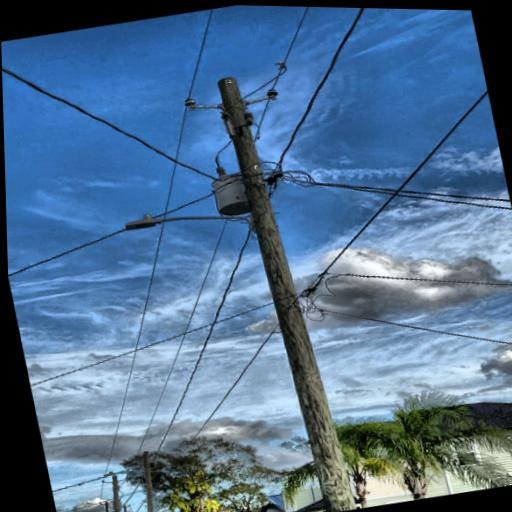pole: (206, 62, 378, 512)
street light: (119, 197, 259, 256)
transformer: (207, 169, 260, 220)
